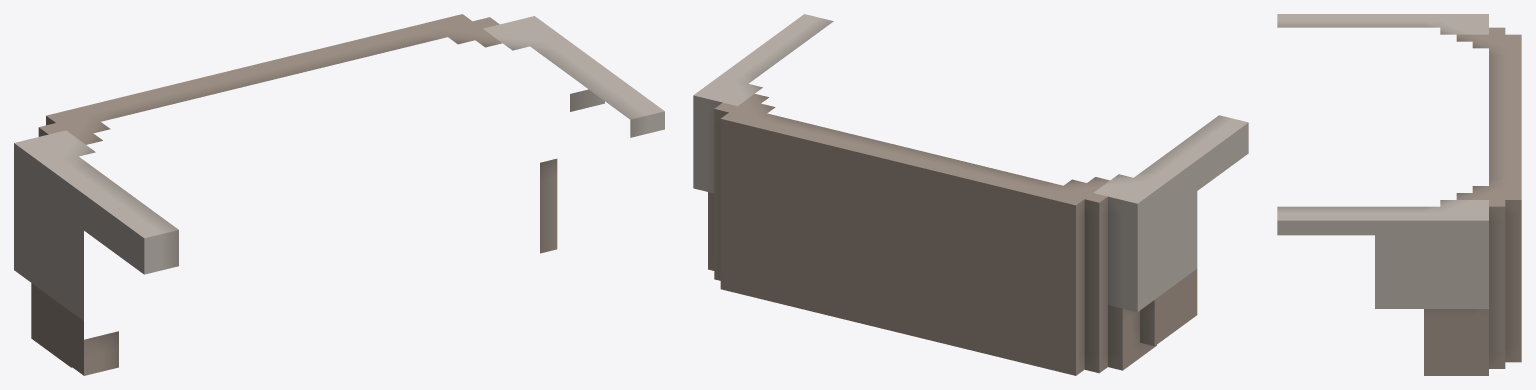
File: hair_m_short_back.glb
3 renders of one model, left to right at view 1: azimuth 30°, elevation 25°; view 2: azimuth 150°, elevation 25°; view 3: azimuth 270°, elevation 25°, orthographic. The views are drawn at different scales.
Parts seen in each view (by area): view 1: VoxelVisual; view 2: VoxelVisual; view 3: VoxelVisual.
Part boxes in pixels (x1,y1,x2,y2): VoxelVisual: (14,14,664,375); VoxelVisual: (693,14,1248,375); VoxelVisual: (1277,14,1521,375).
Size of what is drawn, in the model's own units: 1.88 by 0.6875 by 0.9375.
